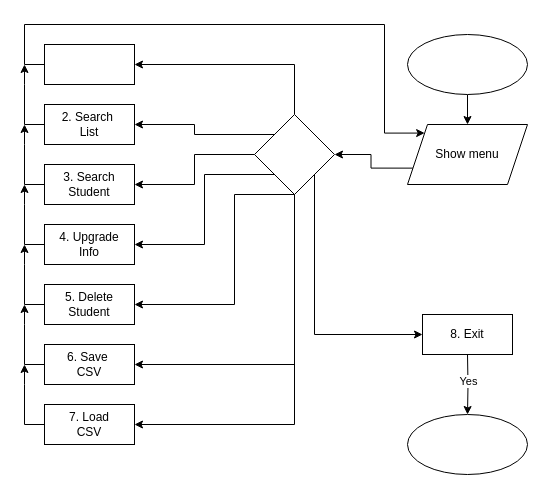
This 545x492 diagram has some shape labels left out. Here are the shapes that lost their labels. From the top down, the centre of each, then its label:
At (89,64): "1. Create Student".
At (467,64): "Start".
At (294,154): "Select Option".
At (467,444): "End".
